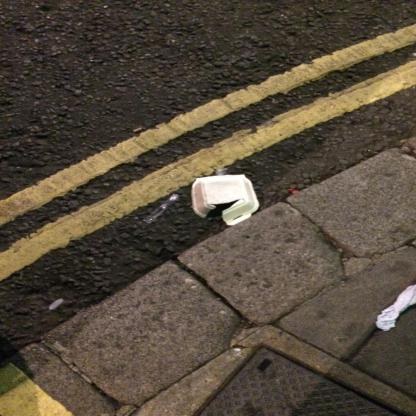Cigarette: (133, 128, 142, 132)
Foam food container: (191, 174, 259, 225)
Normal paper: (376, 286, 414, 330)
Plastic film: (145, 194, 178, 223)
